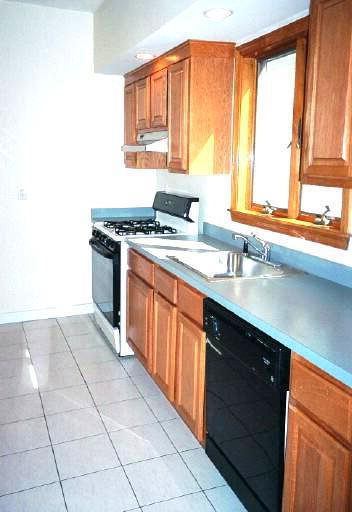Electrodomestico: (202, 300, 291, 511), (90, 188, 199, 351)
Lavaplatos: (162, 237, 289, 284)
